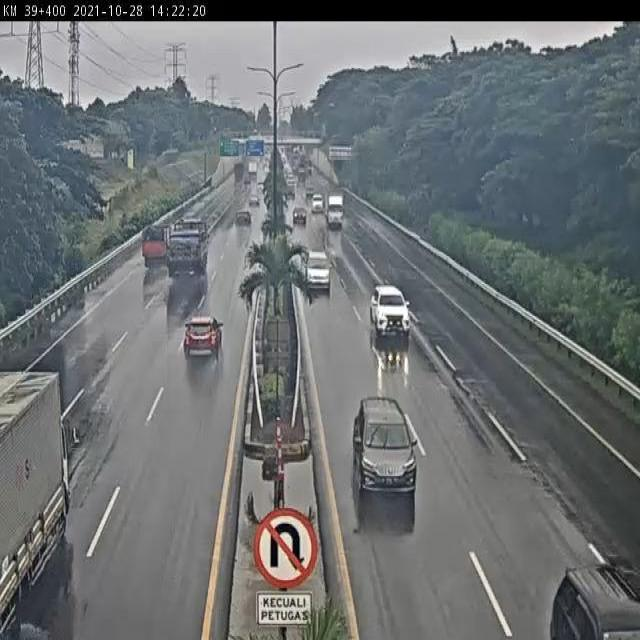big truck: (0, 364, 91, 640)
car: (344, 390, 417, 506), (549, 556, 640, 640), (369, 280, 419, 348), (300, 243, 337, 297), (182, 312, 222, 360), (235, 207, 257, 232), (294, 205, 309, 227), (249, 186, 262, 206)
small truck: (167, 218, 206, 278), (135, 218, 169, 266), (324, 187, 346, 228)
